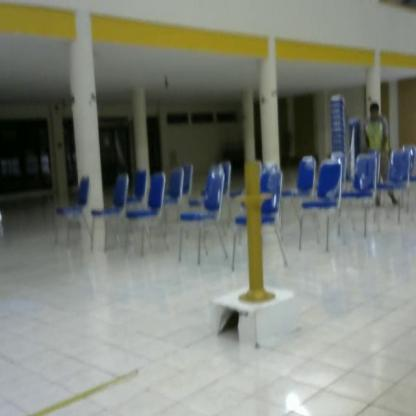pole: (231, 157, 280, 310)
